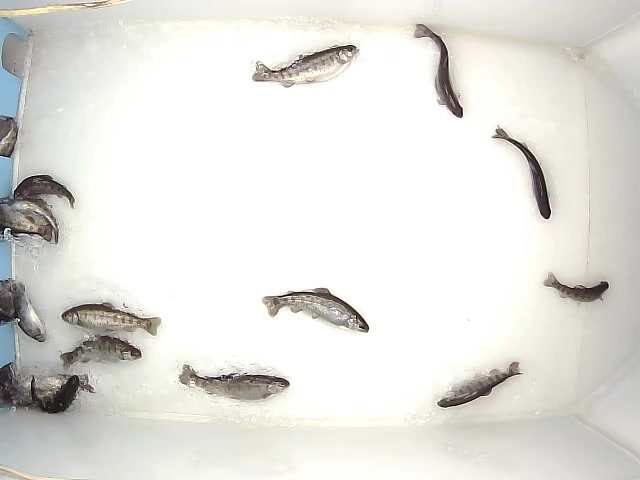fish: (488, 124, 553, 221), (405, 20, 463, 119), (250, 40, 363, 88), (259, 287, 371, 332), (176, 362, 291, 405), (434, 358, 524, 408), (61, 301, 161, 336), (58, 334, 148, 370), (5, 277, 48, 345), (7, 171, 80, 211), (540, 266, 612, 302), (29, 368, 80, 414)
